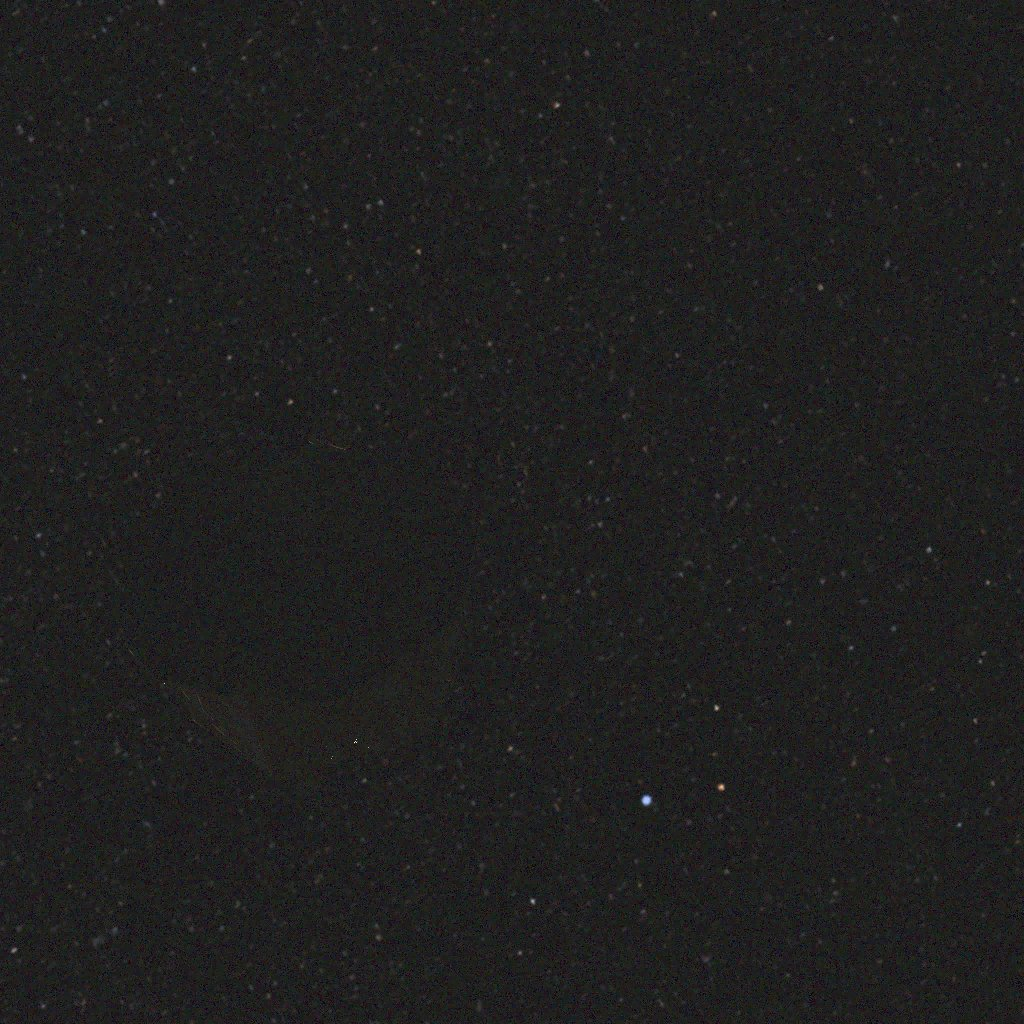lisa_pathfinder: (104, 403, 565, 834)
